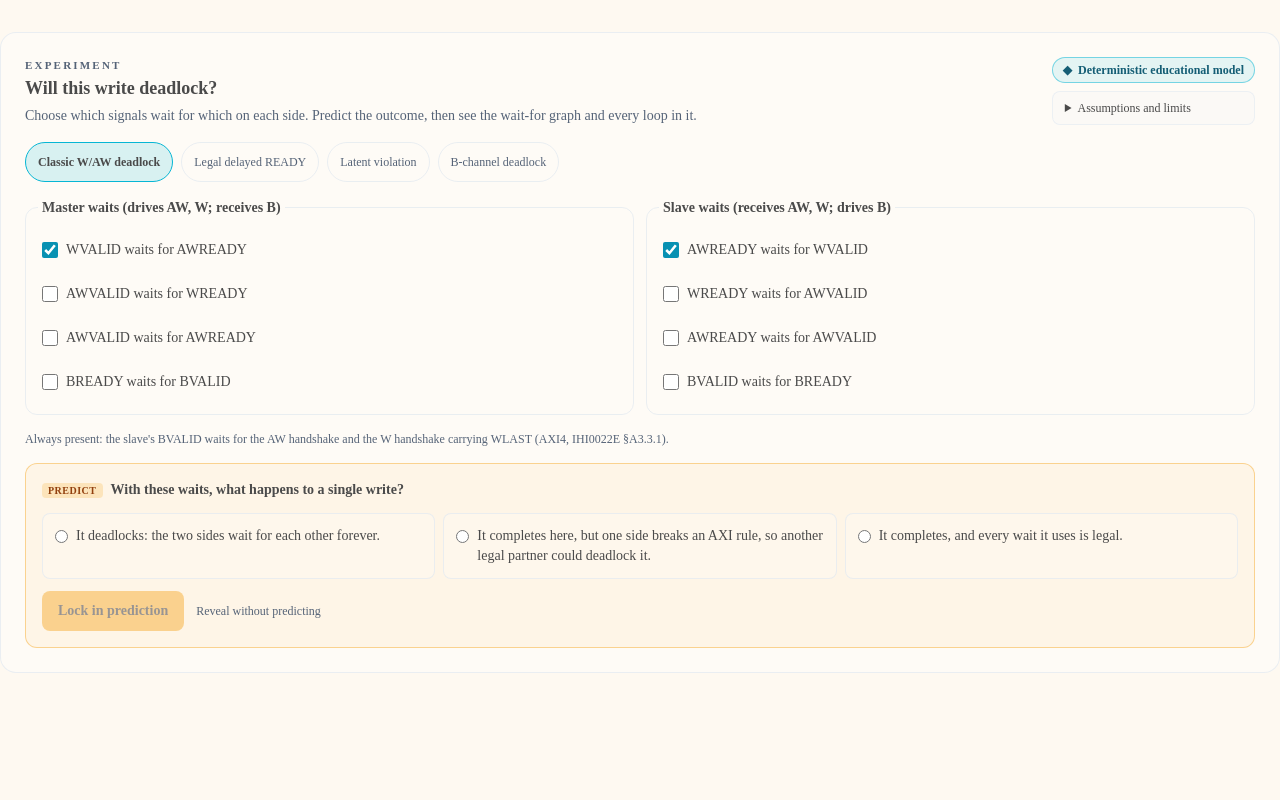
it: AxiDeadlockSimulator › hides the verdict, loop and graph until the learner commits
The image size is (1280, 800).
Expected: the text "Model result" is not shown
Click the radio button labelled "It deadlocks: the two sides wait for each other forever.": (62, 536) [55,530,68,542]
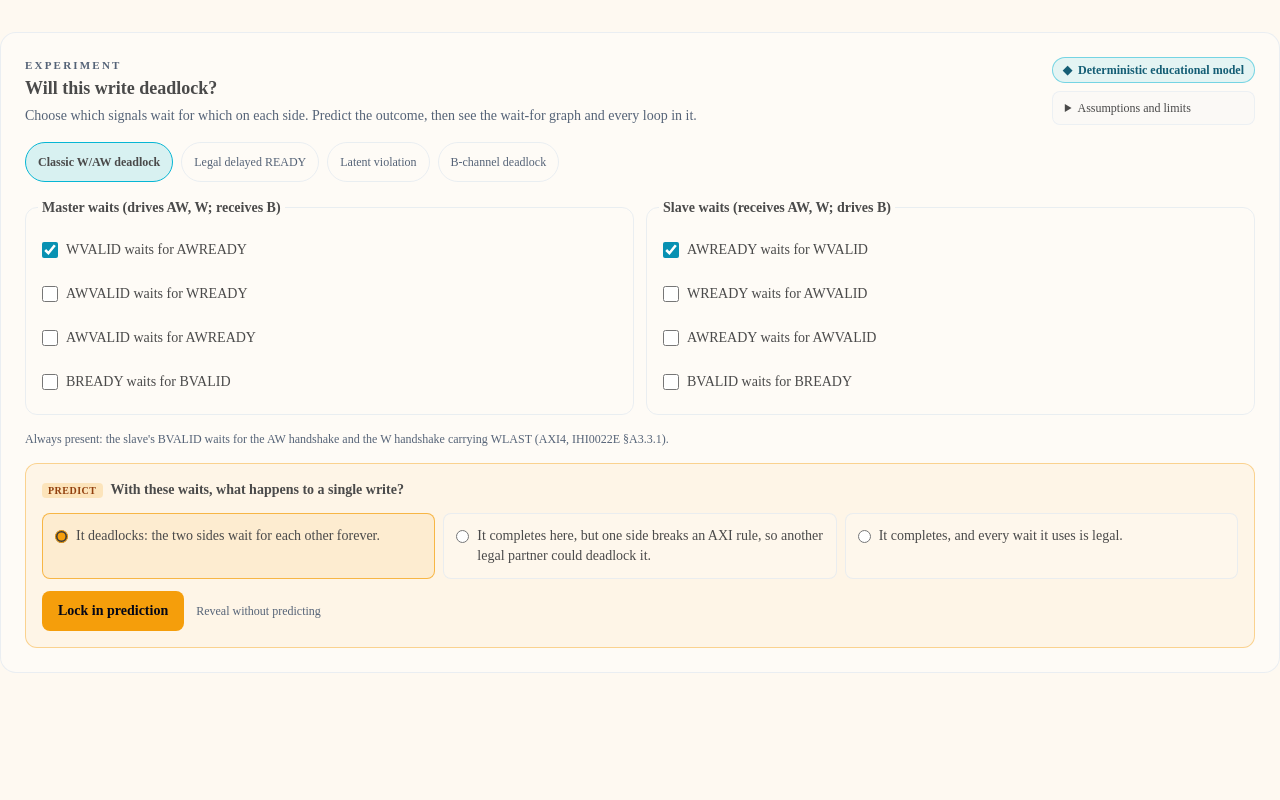
Click the button "Lock in prediction": (113, 610) [42,590,184,630]
(page scrolled)
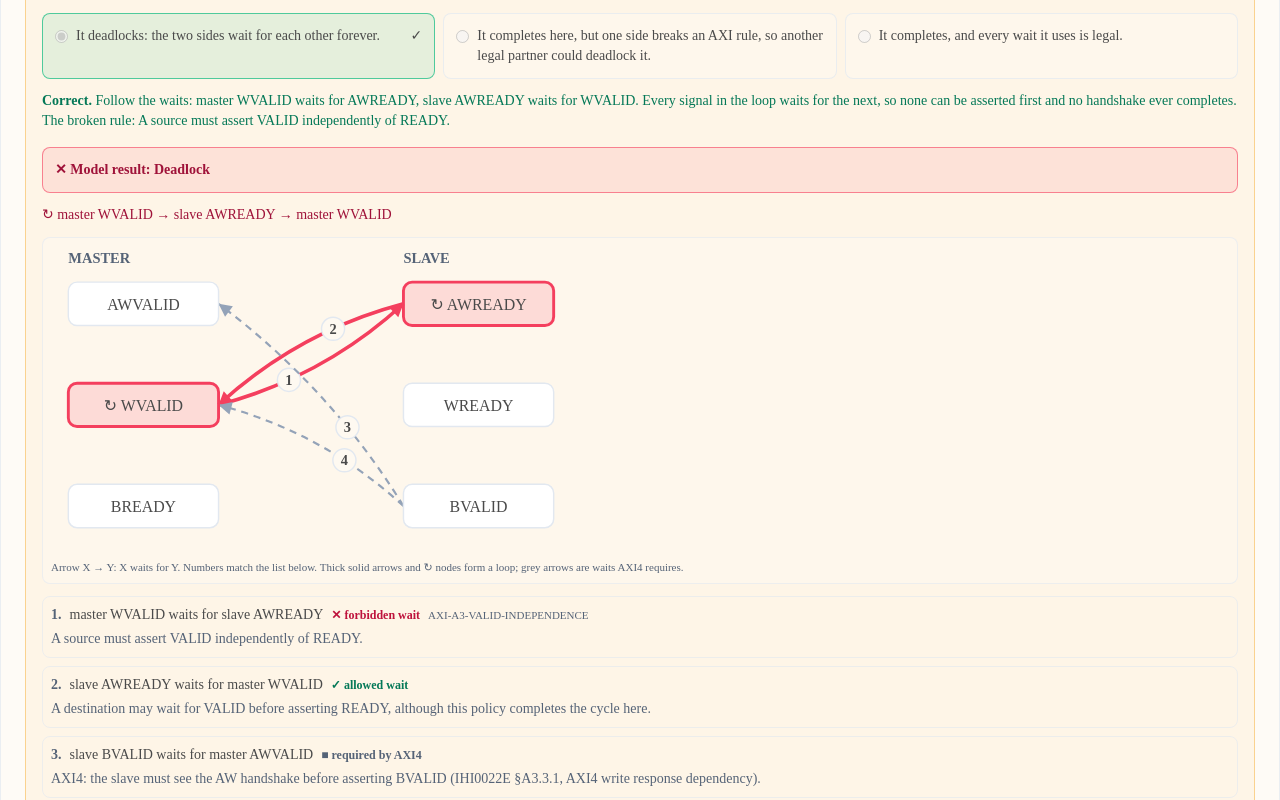
Now the text "Correct." is shown, box [42,92,95,108]
Now the text "✕ Model result: Deadlock" is shown, box [42,146,1238,192]
Now the list item "↻ master WVALID → slave AWREADY → master WVALID" is shown, box [42,206,392,222]
